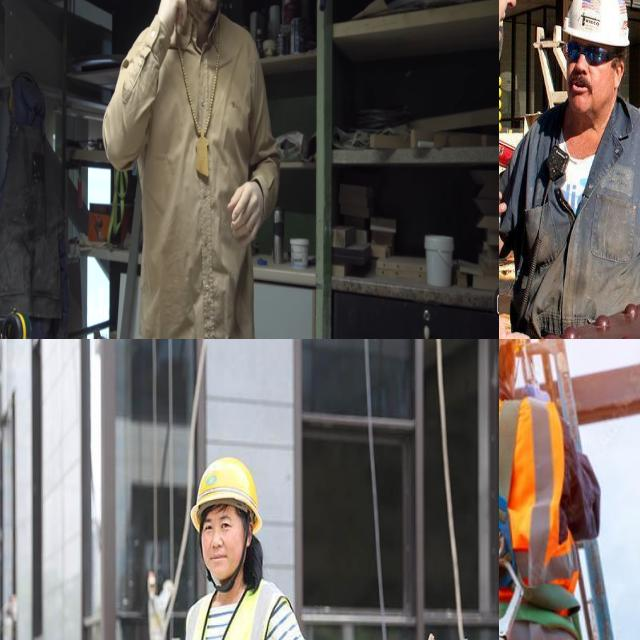Harness: (499, 400, 562, 640)
No_Ear-Protection: (556, 5, 629, 120)
face_nomask: (193, 506, 250, 588)
head_helmet: (188, 457, 258, 528)
person: (174, 454, 310, 640), (201, 515, 240, 537)
